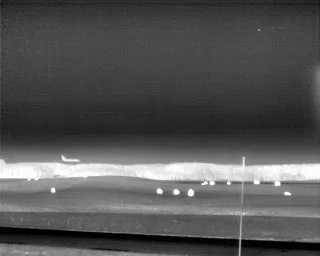AIRPLANE: (256, 26, 263, 33)
